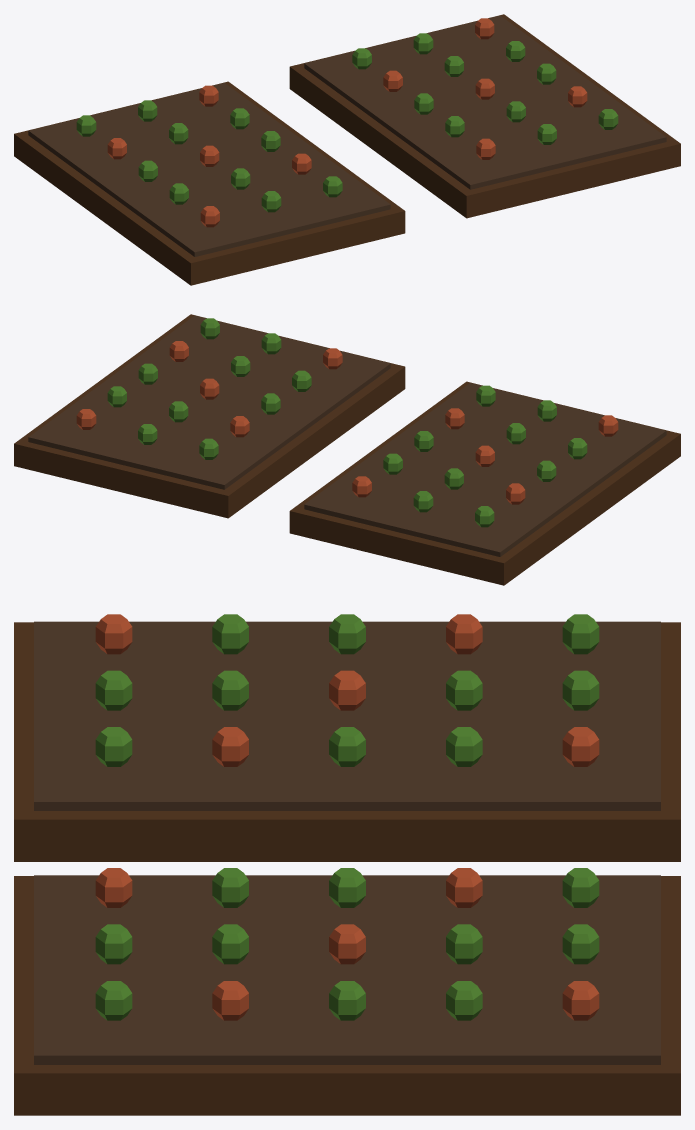
File: garden.glb
3 views of the same model, one above another, from view 1: azimuth 30°, elevation 25°; view 2: azimuth 150°, elevation 25°; view 3: azimuth 270°, elevation 25° (orthographic). The views are drawn at different scales.
Visible parts, largest first — view 1: garden; view 2: garden; view 3: garden.
Part boxes in pixels (box(x1,y1,x2,y2)): garden: box(14, 14, 680, 285); garden: box(14, 314, 680, 585); garden: box(14, 614, 680, 1115).
Size of the model in its own units: 3.2 by 0.29 by 2.
